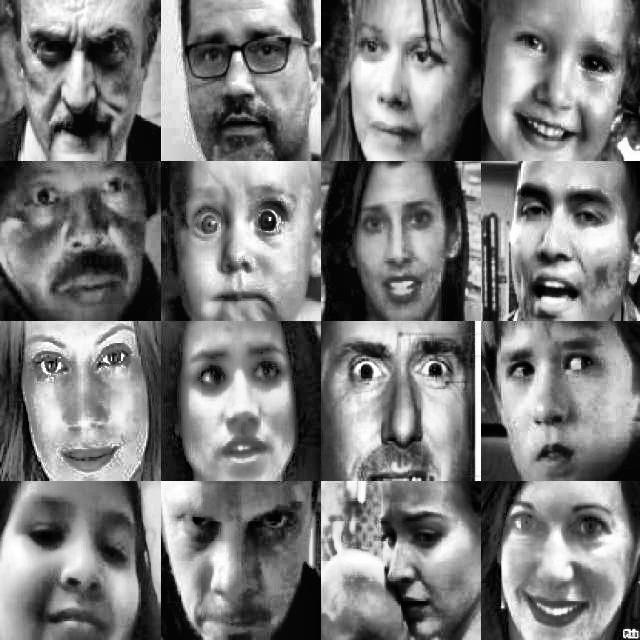angry: (9, 6, 149, 160), (172, 491, 310, 640), (338, 333, 474, 479), (330, 171, 456, 313)
fear: (489, 333, 633, 473), (181, 177, 313, 313), (184, 333, 307, 471)
happy: (20, 325, 152, 477), (15, 489, 147, 640), (503, 491, 632, 640), (486, 11, 622, 147)
neutral: (6, 166, 158, 314), (169, 12, 313, 156), (493, 165, 630, 313)
sad: (342, 6, 468, 155), (369, 488, 480, 637)
